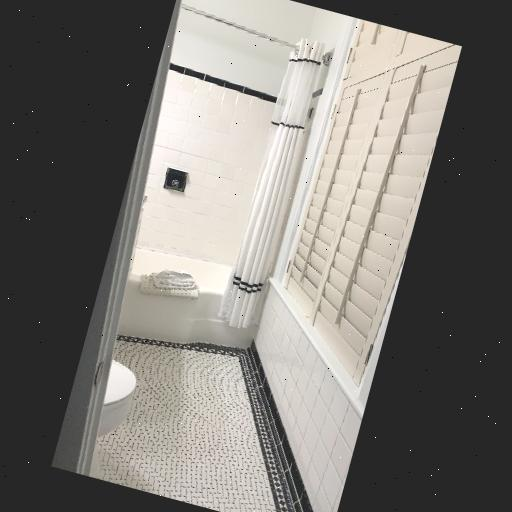clean_bathtub: (118, 245, 268, 345)
clean_floor: (89, 335, 308, 512)
folded_towel: (134, 259, 204, 305)
